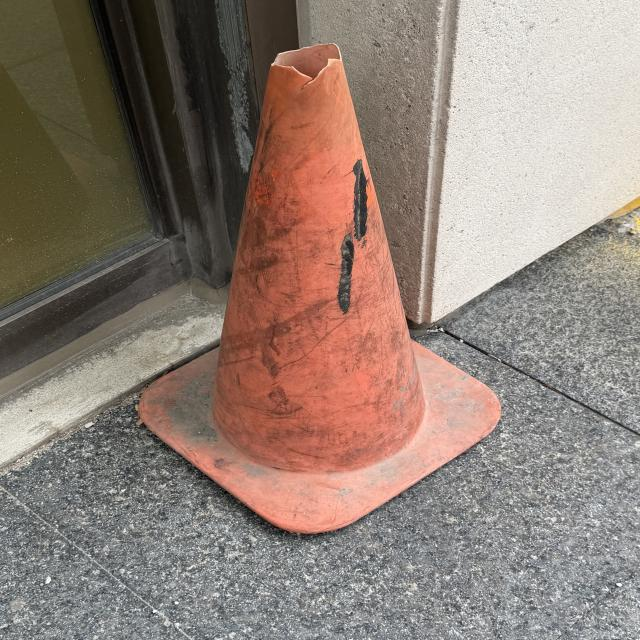Traffic Cone: (134, 41, 505, 537)
